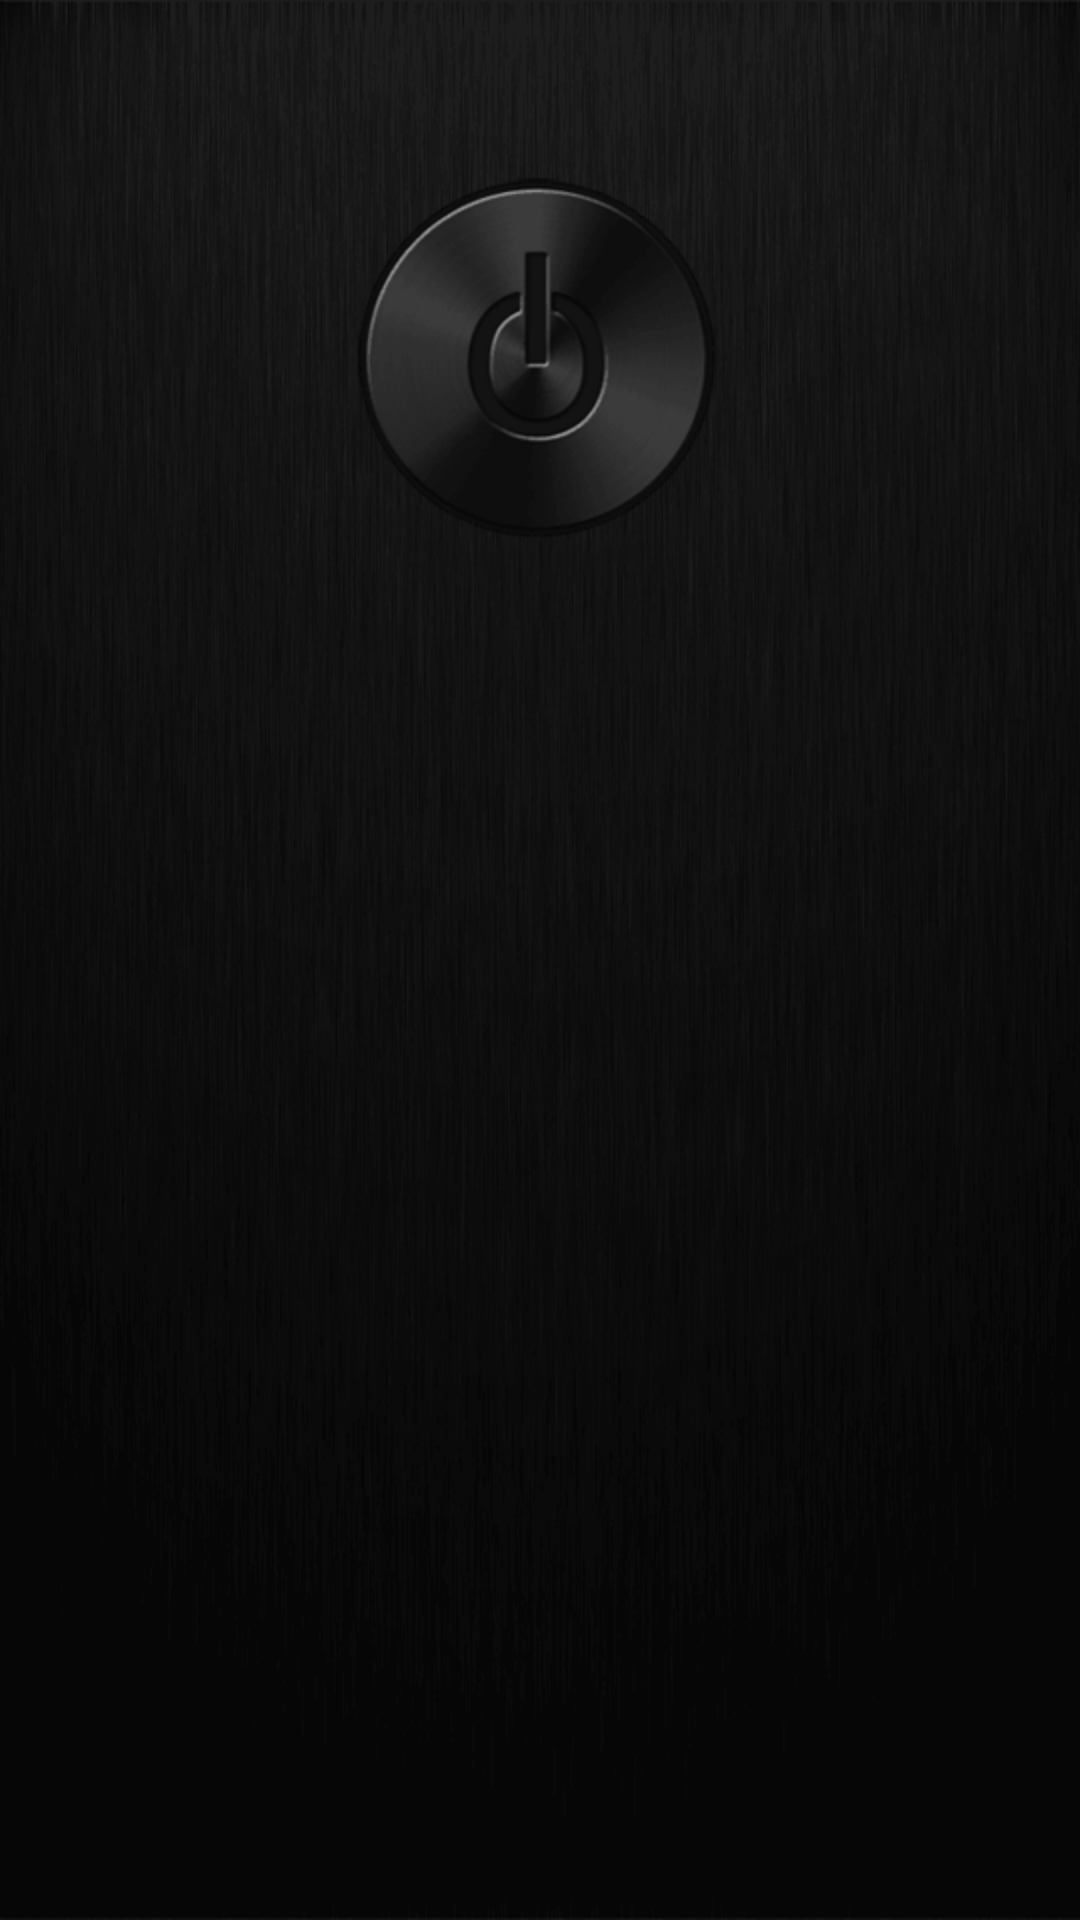

Named icons in this screenshot (1080x1920) and their centers, [x,y]:
mainbutton off: [535,344]
